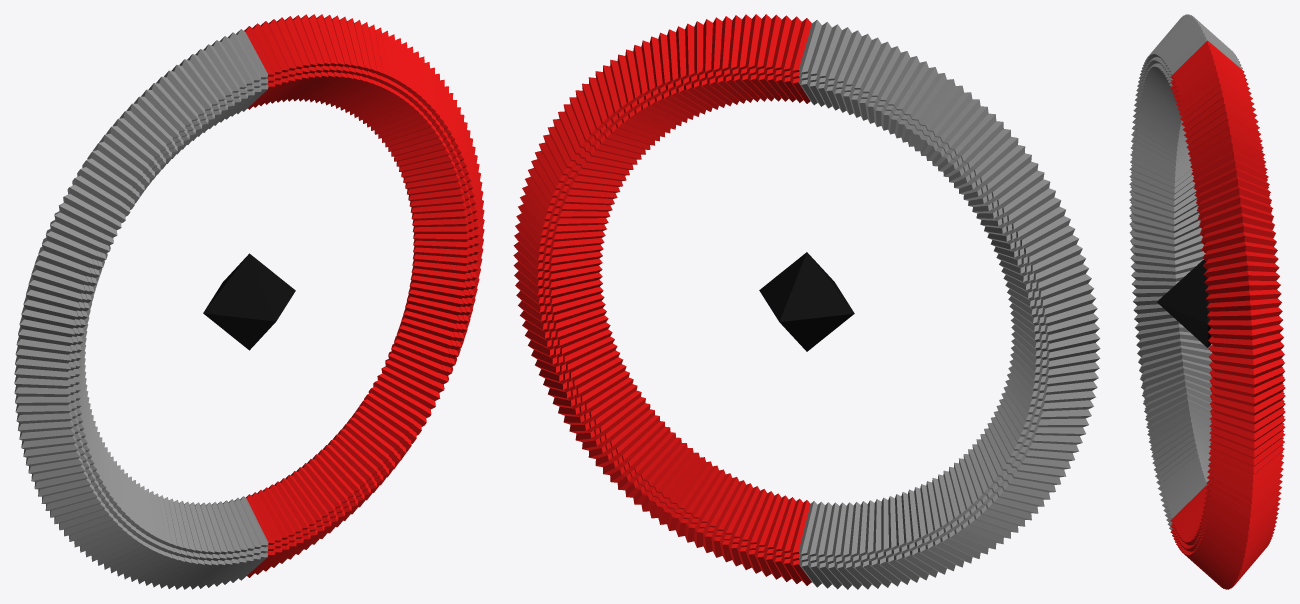
Rendered from local_feasible_centers.obj.
3 renders of one model, left to right at view 1: azimuth 30°, elevation 25°; view 2: azimuth 150°, elevation 25°; view 3: azimuth 270°, elevation 25°, orthographic. The views are drawn at different scales.
Parts seen in each view (by area): view 1: rejected_candidates, feasible_candidates, target_point_000165; view 2: rejected_candidates, feasible_candidates, target_point_000165; view 3: feasible_candidates, rejected_candidates, target_point_000165.
Boxes of the visible parts, <box> form: rejected_candidates: <box>14,29,268,589</box>; feasible_candidates: <box>244,14,484,577</box>; target_point_000165: <box>203,253,295,350</box>; rejected_candidates: <box>798,20,1100,589</box>; feasible_candidates: <box>513,14,811,585</box>; target_point_000165: <box>759,252,854,351</box>; feasible_candidates: <box>1170,40,1285,589</box>; rejected_candidates: <box>1129,14,1242,530</box>; target_point_000165: <box>1157,259,1211,347</box>.
Bounding box in the file's own units: 0.1361 × 0.138 × 0.0375.
